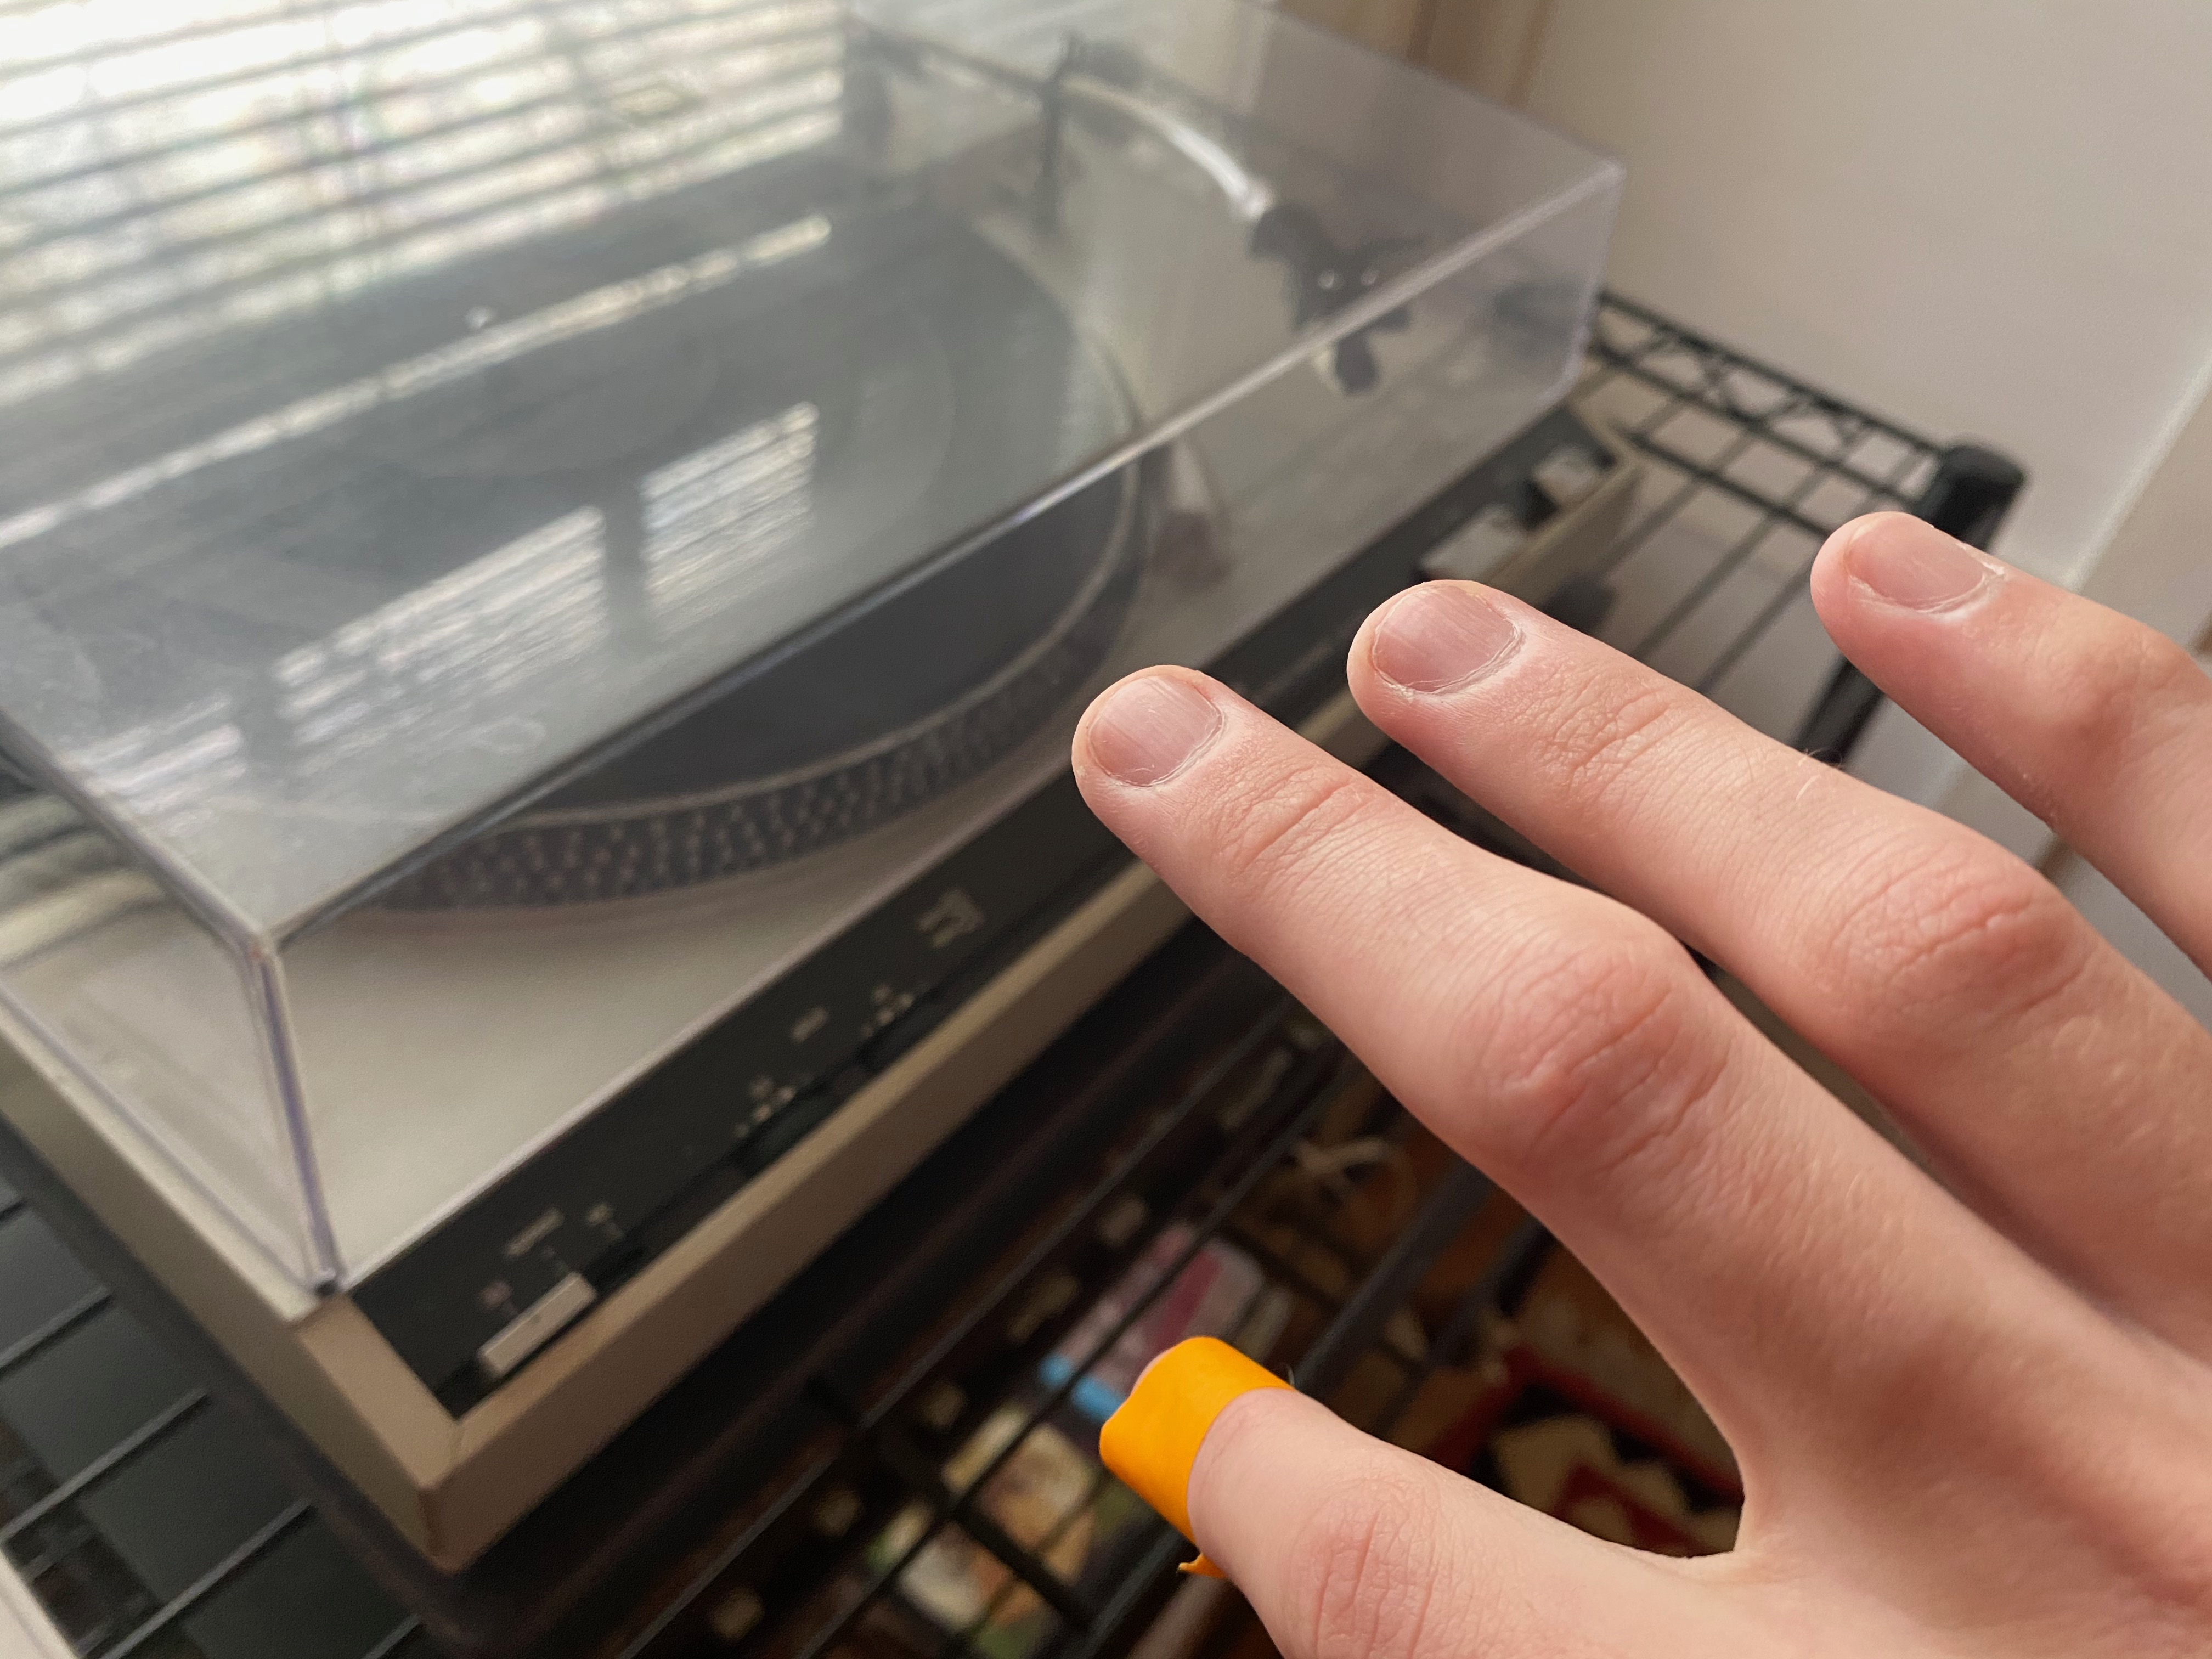fingertip: (1078, 1312, 1379, 1591)
